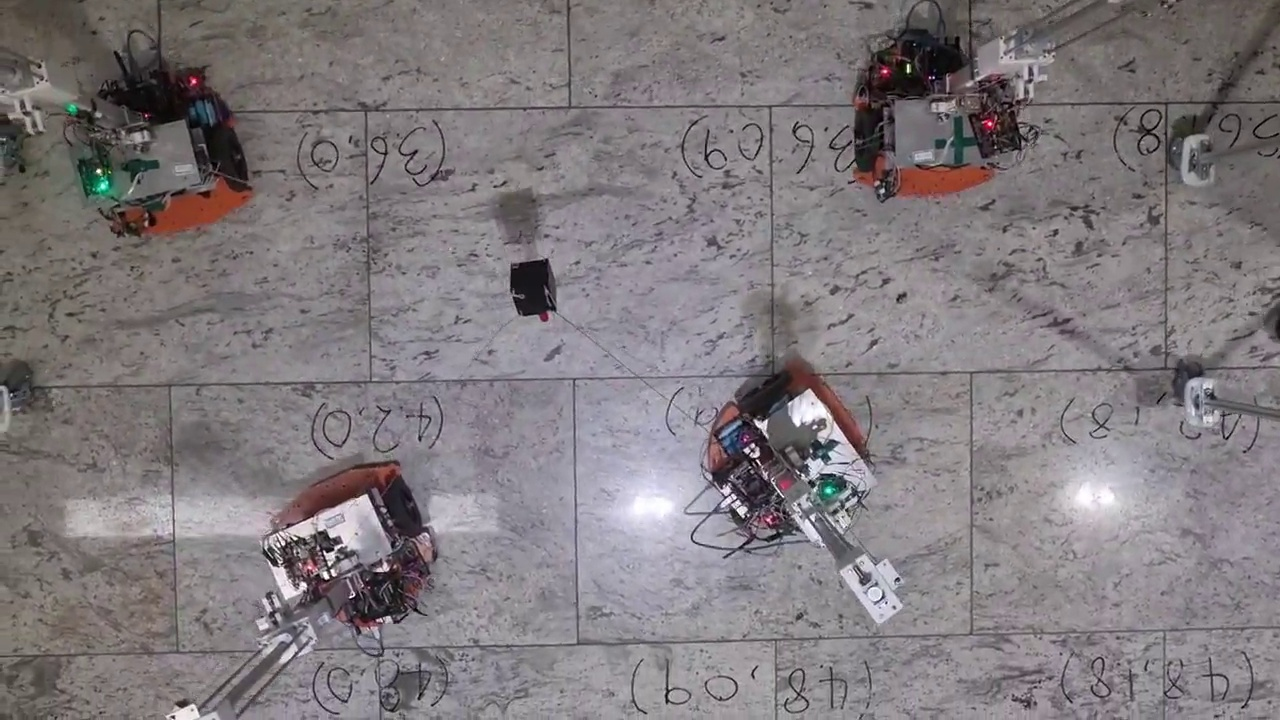e0: (510, 260, 557, 315)
r1: (736, 369, 860, 524)
r2: (853, 97, 1022, 169)
r3: (92, 123, 250, 219)
r4: (258, 477, 423, 585)
y_+_axis_vector: (770, 104, 1167, 107)
y_-_axis_vector: (367, 107, 771, 111)
